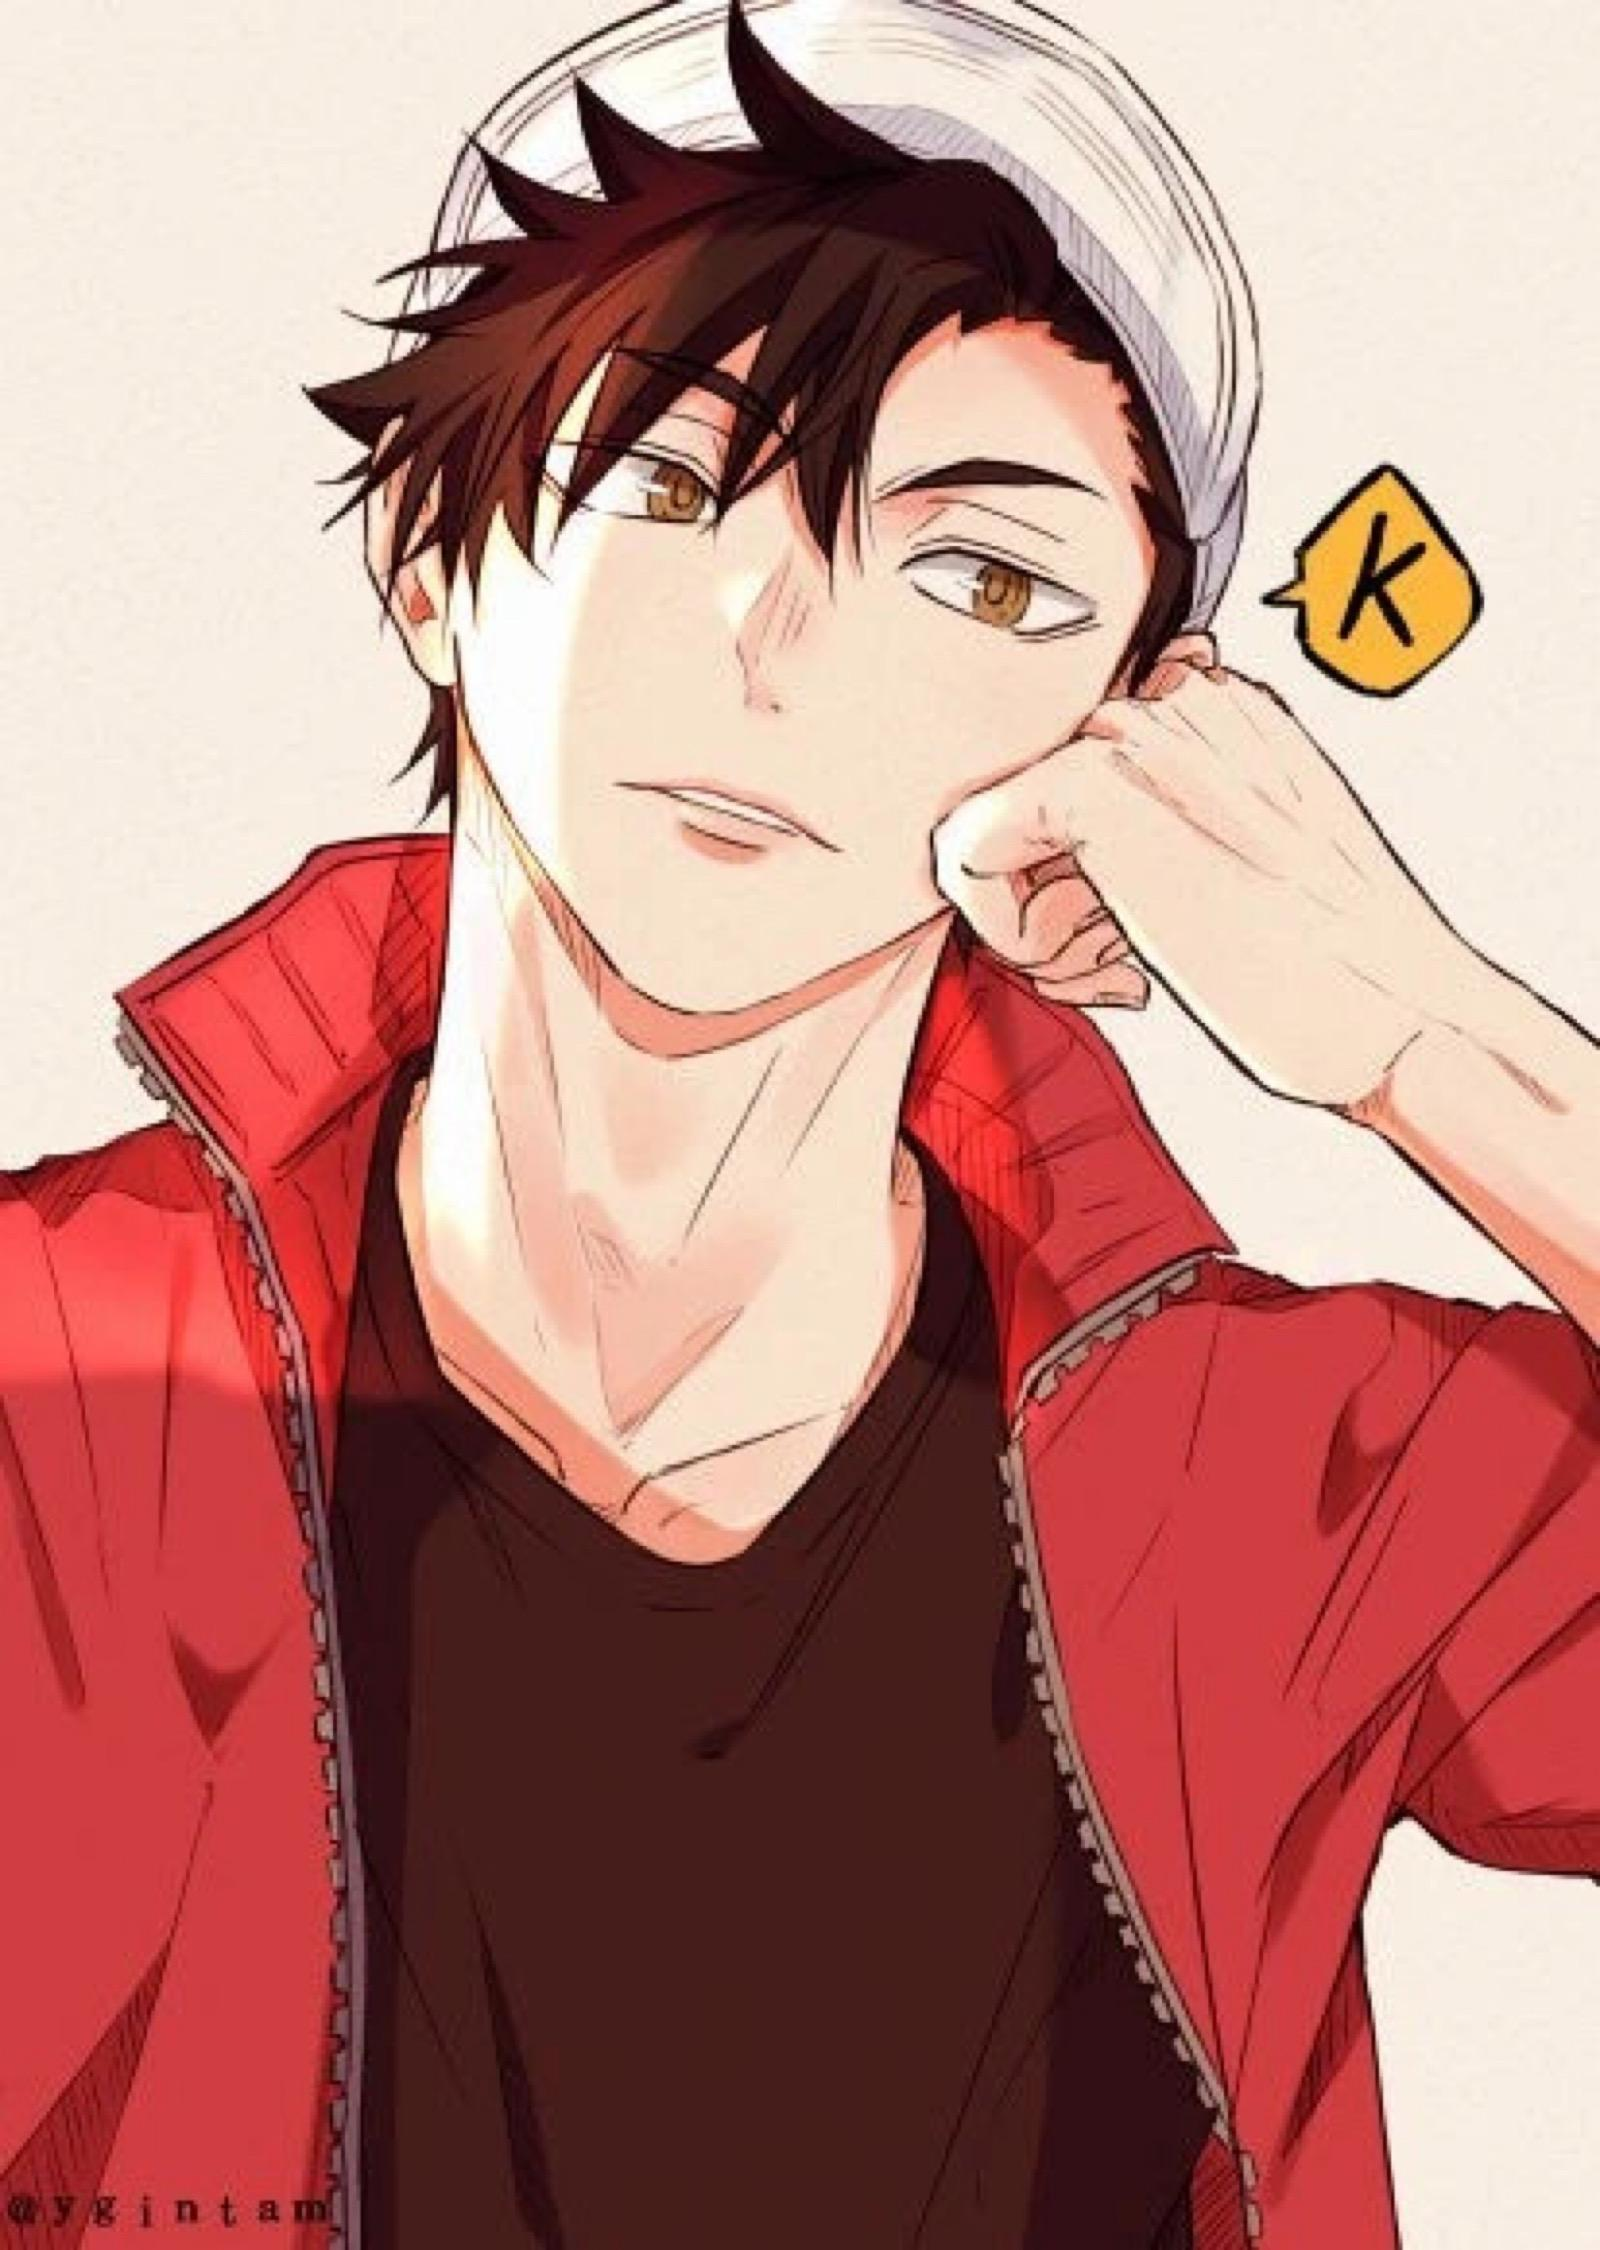person: (244, 89, 1325, 1544)
